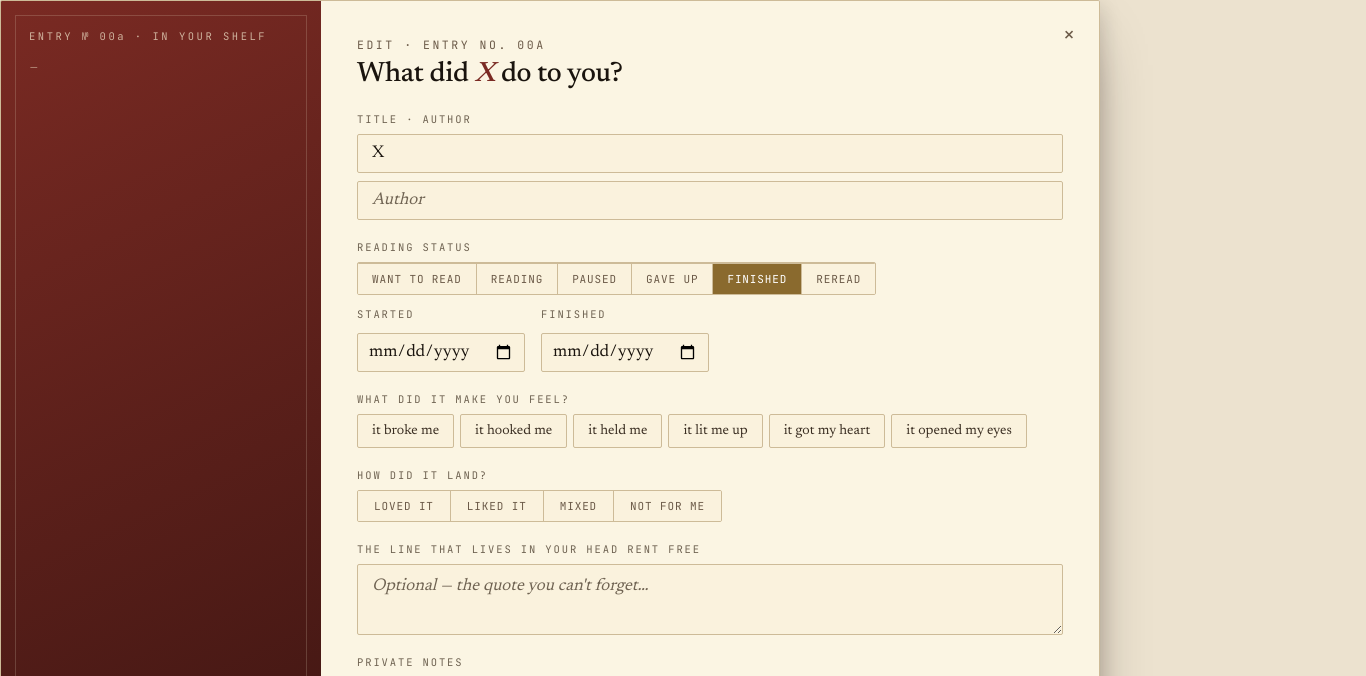
Test case: EntryModal new vocabulary + per-emotion intensity [Part A/B/C] › renders the six family doors and reveals emotions only on tap
Check: the button "it hooked me" is shown, box [460,414,567,448]
Check: the button "it held me" is shown, box [573,414,662,448]
Click the button "it broke me": [406, 431] box [357,414,454,448]
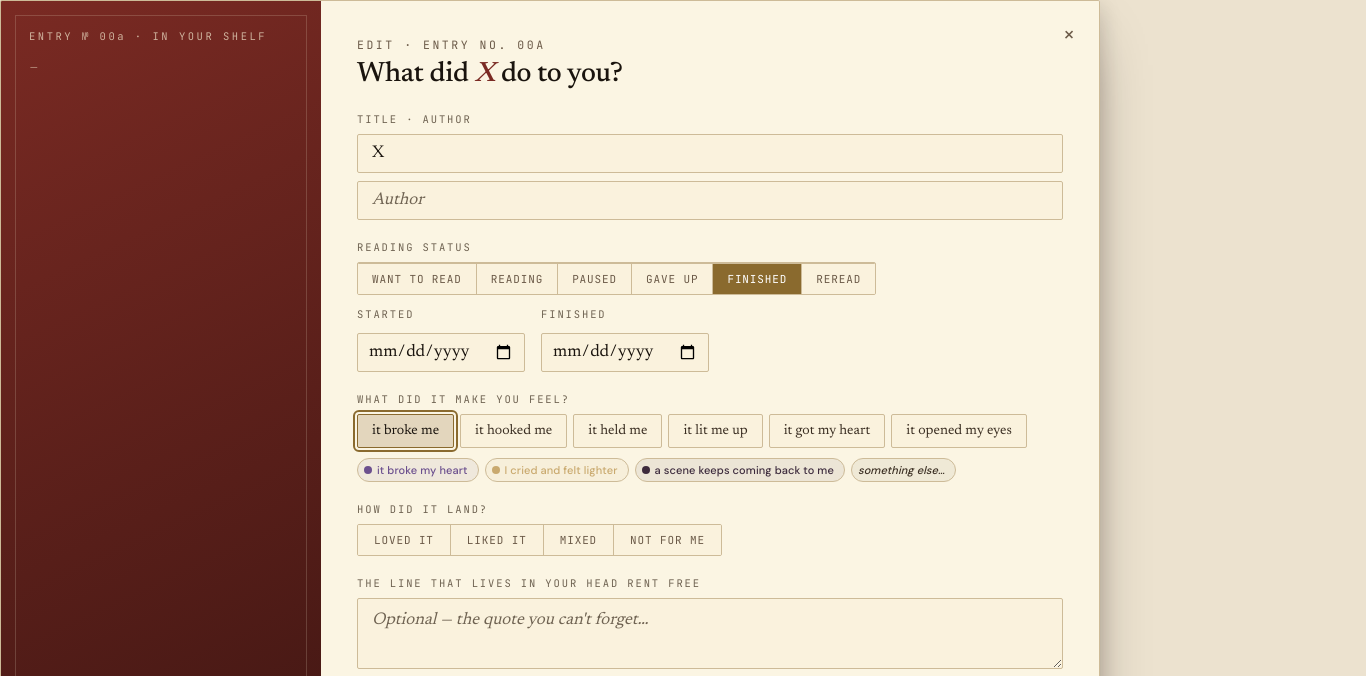
Check: the button "I cried and felt lighter" is shown, box [485,458,629,482]
Check: the button "it broke my heart" is shown, box [357,458,479,482]
Check: the button "something else…" is shown, box [851,458,956,482]
